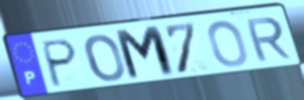7: (163, 21, 200, 76)
M: (112, 24, 179, 83)
O: (83, 32, 127, 83), (206, 19, 250, 69)
P: (40, 37, 80, 90)
R: (243, 15, 294, 64)
